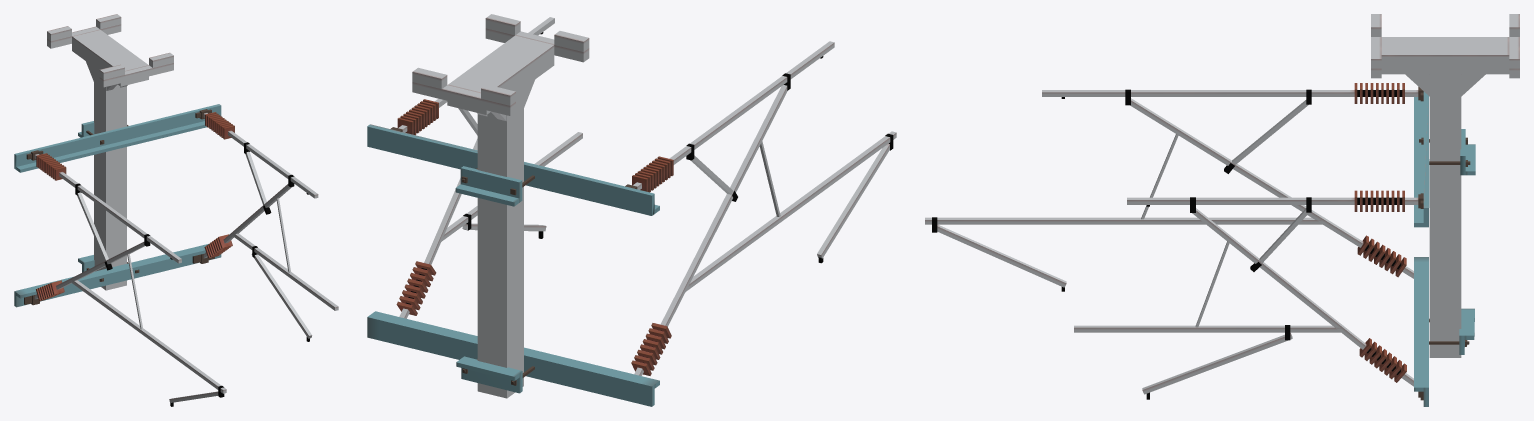
Rendered from catenary_top_double_right.obj.
3 views of the same model, side by side, from view 1: azimuth 30°, elevation 25°; view 2: azimuth 150°, elevation 25°; view 3: azimuth 270°, elevation 25° (orthographic). The views are drawn at different scales.
Visible parts, largest first — view 1: catenary_top_double_left; view 2: catenary_top_double_left; view 3: catenary_top_double_left.
Boxes of the visible parts, x1,y1,x2,y2 form: catenary_top_double_left: (14, 14, 338, 406); catenary_top_double_left: (367, 14, 896, 406); catenary_top_double_left: (925, 14, 1519, 406).
Size of the model in its own units: 1.82 by 2.04 by 3.5.
1 material, 1 textured.
